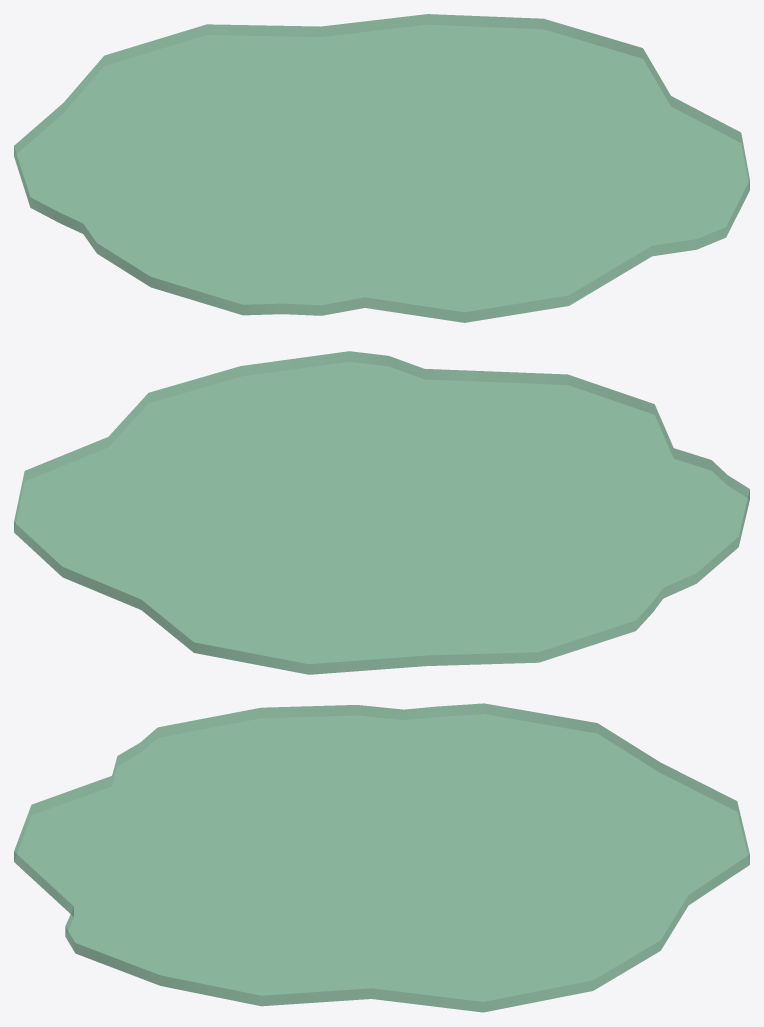
Rendered from slime01.fbx.
3 views of the same model, one above another, from view 1: azimuth 30°, elevation 25°; view 2: azimuth 150°, elevation 25°; view 3: azimuth 270°, elevation 25° (orthographic).
Visible parts, largest first — view 1: pCylinder1; view 2: pCylinder1; view 3: pCylinder1.
Part boxes in pixels (left/top/right/bottom): pCylinder1: left=14, top=14, right=749, bottom=322; pCylinder1: left=14, top=351, right=749, bottom=674; pCylinder1: left=14, top=703, right=749, bottom=1012.
Bounding box in the file's own units: 329 × 343 × 5.45.
